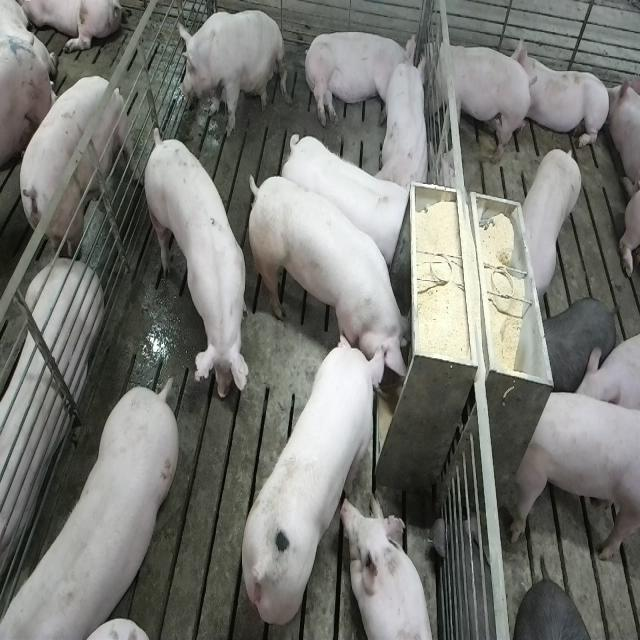Feeding: (240, 333, 390, 625), (251, 172, 418, 396)
Lateral_lying: (302, 28, 418, 128)
Sitting: (178, 8, 286, 138)
Standing: (0, 382, 176, 640), (142, 126, 248, 411), (508, 386, 638, 568), (14, 76, 130, 263), (281, 128, 412, 266), (421, 33, 534, 166), (518, 142, 586, 298), (540, 296, 620, 396)
Sternal_lying: (0, 262, 101, 602), (345, 494, 437, 640), (517, 35, 613, 155), (378, 47, 433, 194)
